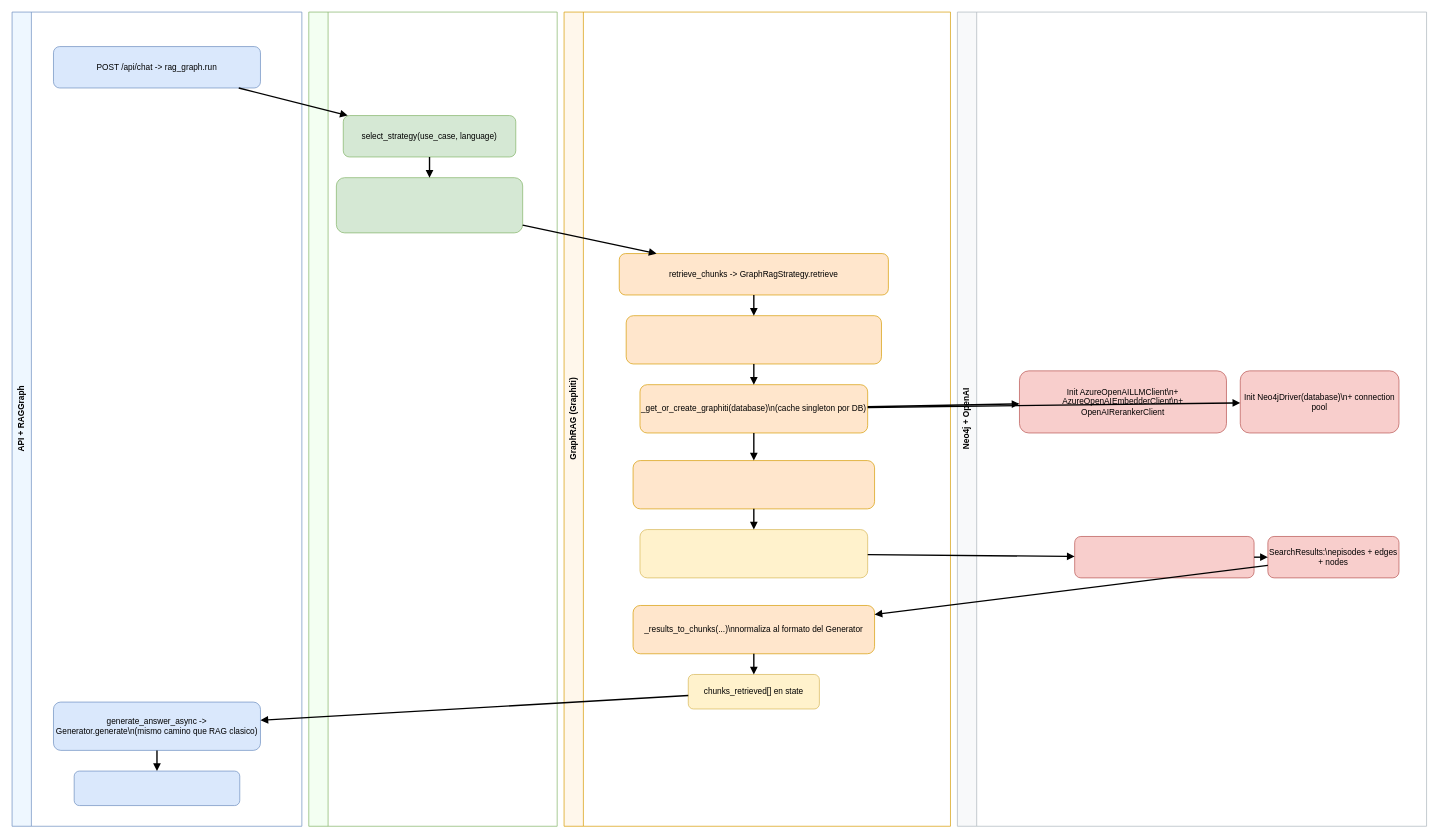
Some shapes in this 1439 by 838 pixel diagram are drawn without their labels. Each missing label, with the box of its shape:
_build_search_config(mode)\ncombined | edges | nodes: (639, 529, 868, 578)
_resolve_database(use_case)\nneo4j_wiki_database o neo4j_eu_database: (625, 315, 881, 364)
_run_async(_search_async(...))\n(loop persistente en thread): (632, 460, 875, 509)
get_strategy -> GraphRagStrategy\n(wiki/eu cuando language != es): (336, 177, 523, 233)
graphiti.search_(query, config): (1074, 536, 1254, 578)
Respuesta final + metadata: (73, 770, 240, 806)
Router de estrategias: (308, 11, 557, 826)
